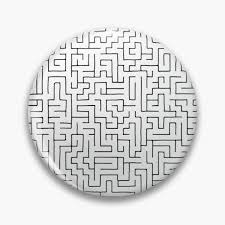maze: (54, 53, 171, 170), (172, 68, 189, 155), (72, 36, 155, 53), (38, 64, 54, 152), (67, 171, 154, 187)
